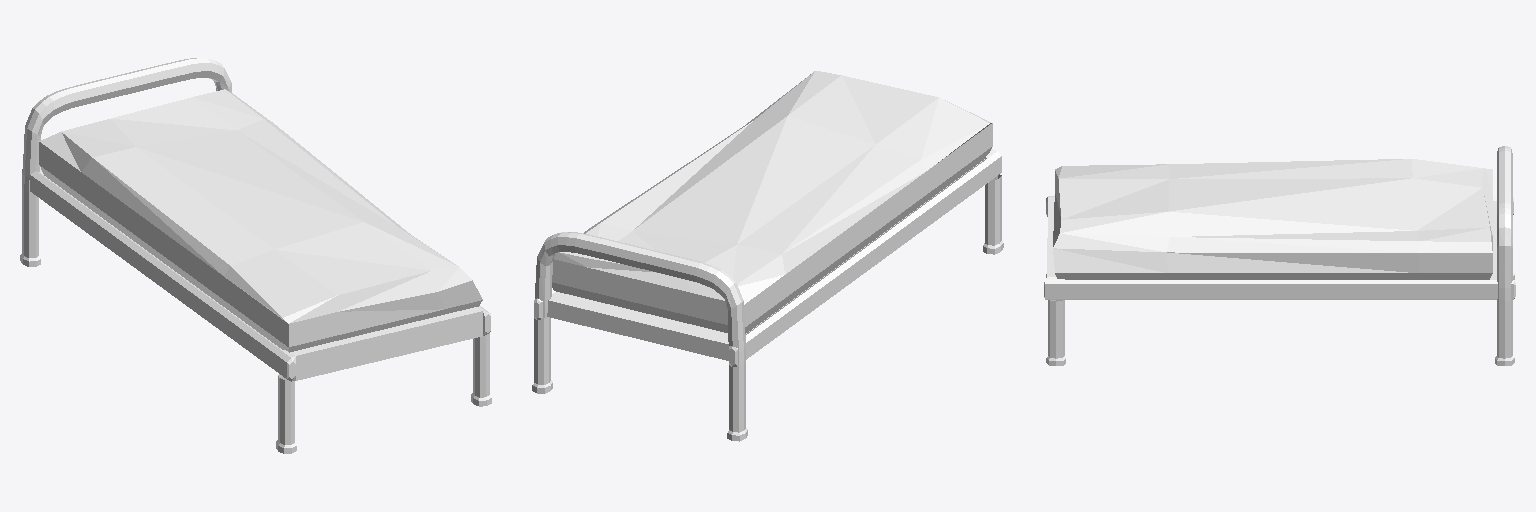
robot.urdf — bed:
<?xml version="1.0" ?>
<robot name="bed">

  <material name="white">
    <color rgba="1 1 1 1"/>
  </material>

  <link name="root">
    <inertial>
      <mass value="0"/>
      <origin rpy="0 0 0" xyz="0 0 0"/>
      <inertia ixx="0.01" ixy="0.0" ixz="0.0" iyy="0.01" iyz="0.0" izz="0.01"/>
    </inertial>
    <visual>
      <origin rpy="1.57079632679 0 0" xyz="0 0 0"/>
      <geometry>
        <mesh filename="realsize_bed.obj" scale="1 1 1"/>
      </geometry>
      <material name="white"/>
    </visual>
    <collision>
      <origin rpy="1.57079632679 0 0" xyz="0 0 0"/>
      <geometry>
        <mesh filename="realsize_bed.obj" scale="1 1 1"/>
      </geometry>
    </collision>
  </link>
</robot>

--- What the picture shows (computed from the rendered views, not written in the file) ---
The picture shows the robot from 3 angles, left to right: view 1: azimuth 30°, elevation 25°; view 2: azimuth 150°, elevation 25°; view 3: azimuth 270°, elevation 25°; orthographic projection.
Robot: bed — 1 links, 0 joints (none); root link root; default pose: every joint at zero.
Visible links, largest first — view 1: root; view 2: root; view 3: root.
Link boxes in pixels (x1,y1,x2,y2): root: (20,58,491,453); root: (532,71,1003,441); root: (1044,146,1515,365).
Bounding box of the posed robot: 1.02 × 2.25 × 0.7632 m (x, y, z).
Meshes: 1 distinct files referenced, 1 mesh visuals loaded (1 OBJ).